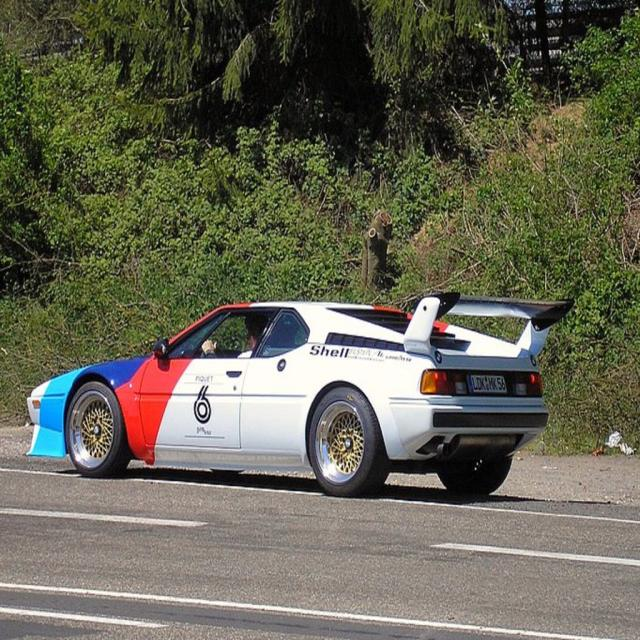car: (24, 285, 571, 499)
